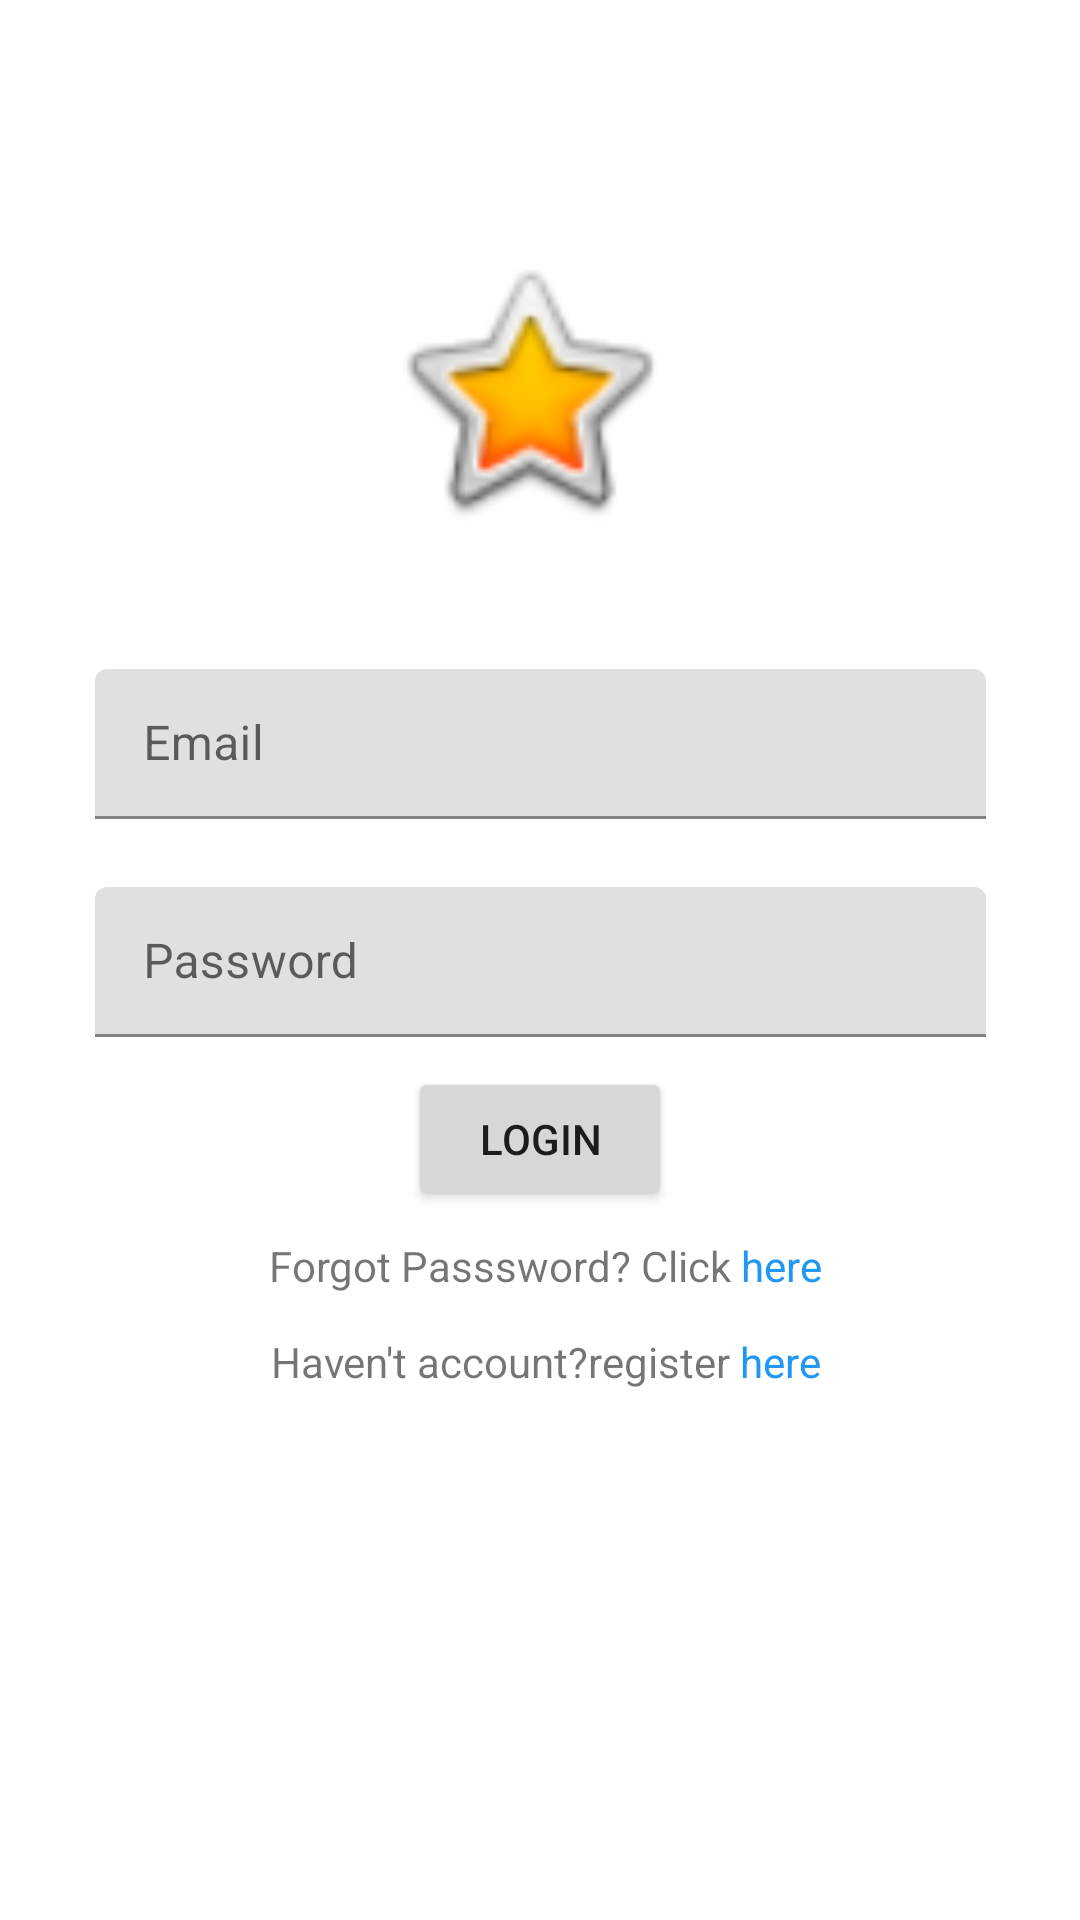

Icon click points for this 1080px x 1920px phone screenshot, format (x,y):
star on: (530,392)
